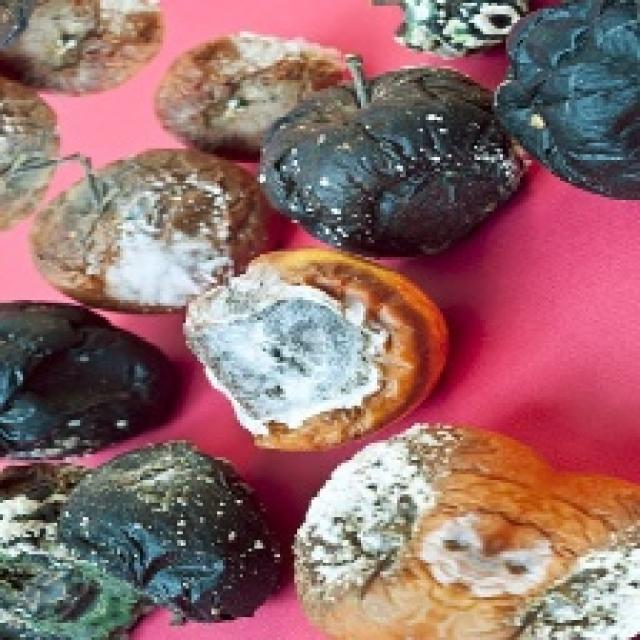rotten_apple: (195, 258, 448, 446), (293, 429, 522, 636), (271, 75, 518, 248), (69, 453, 273, 617), (30, 148, 262, 290), (505, 0, 640, 194), (0, 301, 173, 449), (0, 0, 157, 94), (160, 33, 272, 144)
